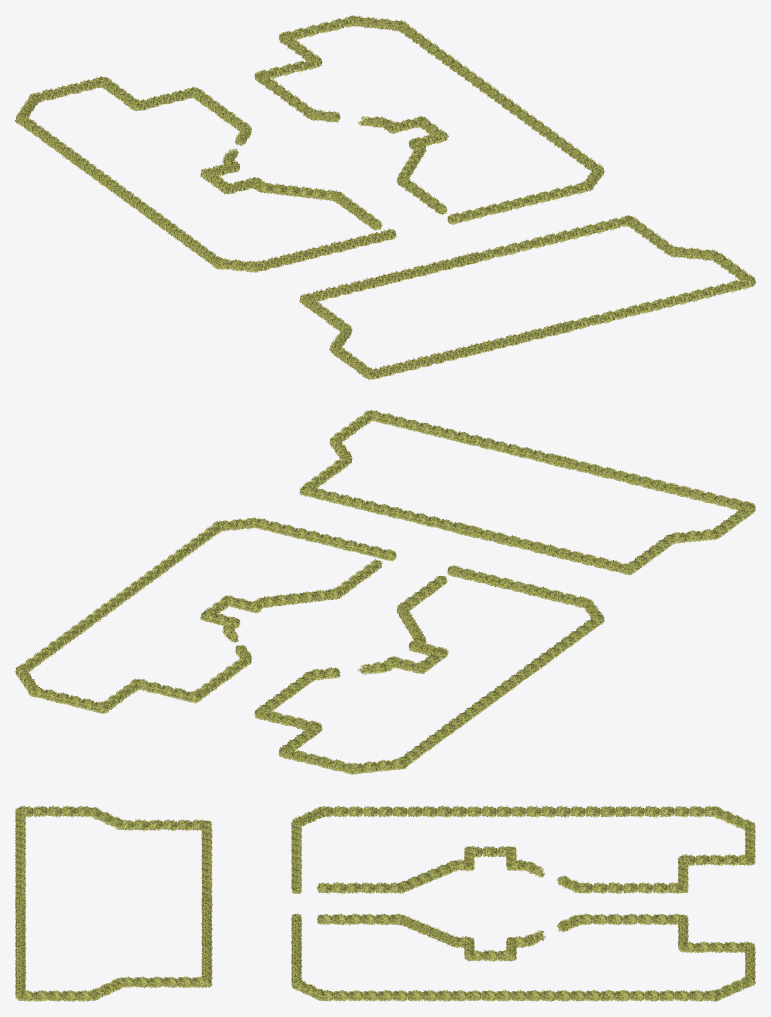
Rendered from Bush.fbx.
3 renders of one model, top to bottom at view 1: azimuth 30°, elevation 25°; view 2: azimuth 150°, elevation 25°; view 3: azimuth 270°, elevation 25°, orthographic.
Visible parts, largest first — view 1: Bush_Branches_Red.022; view 2: Bush_Branches_Red.022; view 3: Bush_Branches_Red.022.
Boxes of the visible parts, x1,y1,x2,y2 form: Bush_Branches_Red.022: (15,15,755,379); Bush_Branches_Red.022: (15,410,755,774); Bush_Branches_Red.022: (15,805,755,1001).
Size of the model in its own units: 104 by 172 by 3.11.
Materials: 1 (1 with a texture image).
